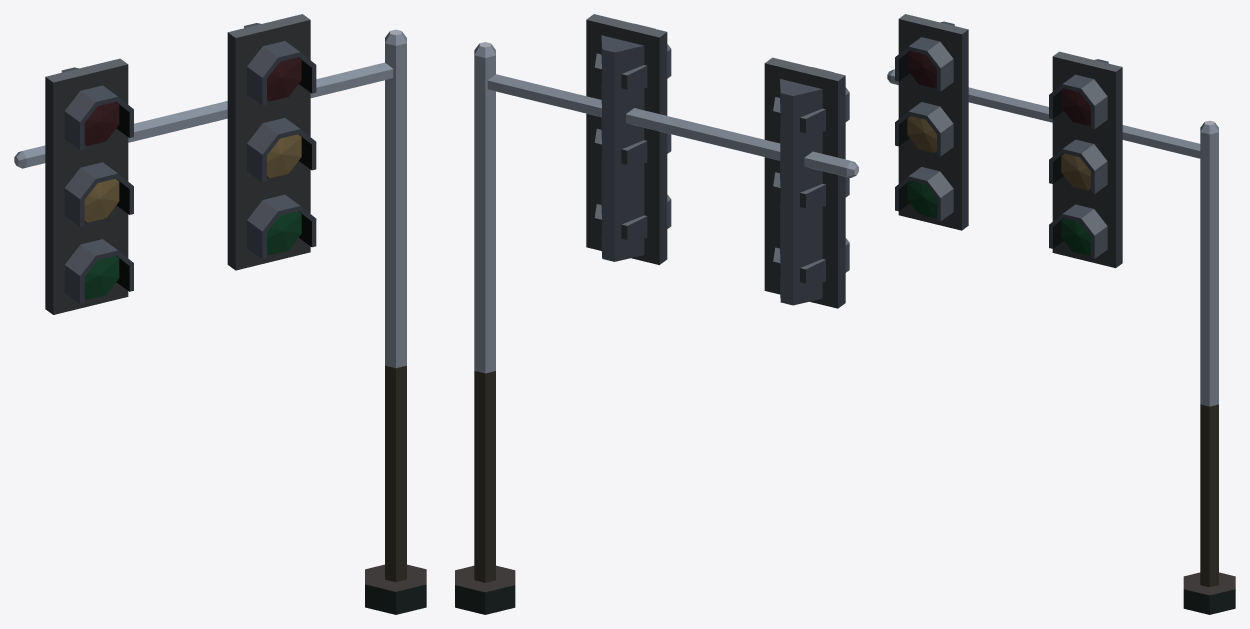
File: TB_CITY_Prop_TrafficLight_HSet_Black.FBX
The picture shows the model from 3 angles, left to right: view 1: azimuth 30°, elevation 25°; view 2: azimuth 150°, elevation 25°; view 3: azimuth 330°, elevation 25°; orthographic projection. The views are drawn at different scales.
Visible parts, largest first — view 1: TB_CITY_Prop_TrafficLight_HSet_Black; view 2: TB_CITY_Prop_TrafficLight_HSet_Black; view 3: TB_CITY_Prop_TrafficLight_HSet_Black.
Boxes of the visible parts, left/top/right/bottom form: TB_CITY_Prop_TrafficLight_HSet_Black: left=14, top=14, right=426, bottom=614; TB_CITY_Prop_TrafficLight_HSet_Black: left=455, top=14, right=858, bottom=614; TB_CITY_Prop_TrafficLight_HSet_Black: left=887, top=14, right=1235, bottom=614.
Bounding box in the file's own units: 5.62 × 8.02 × 1.04.
